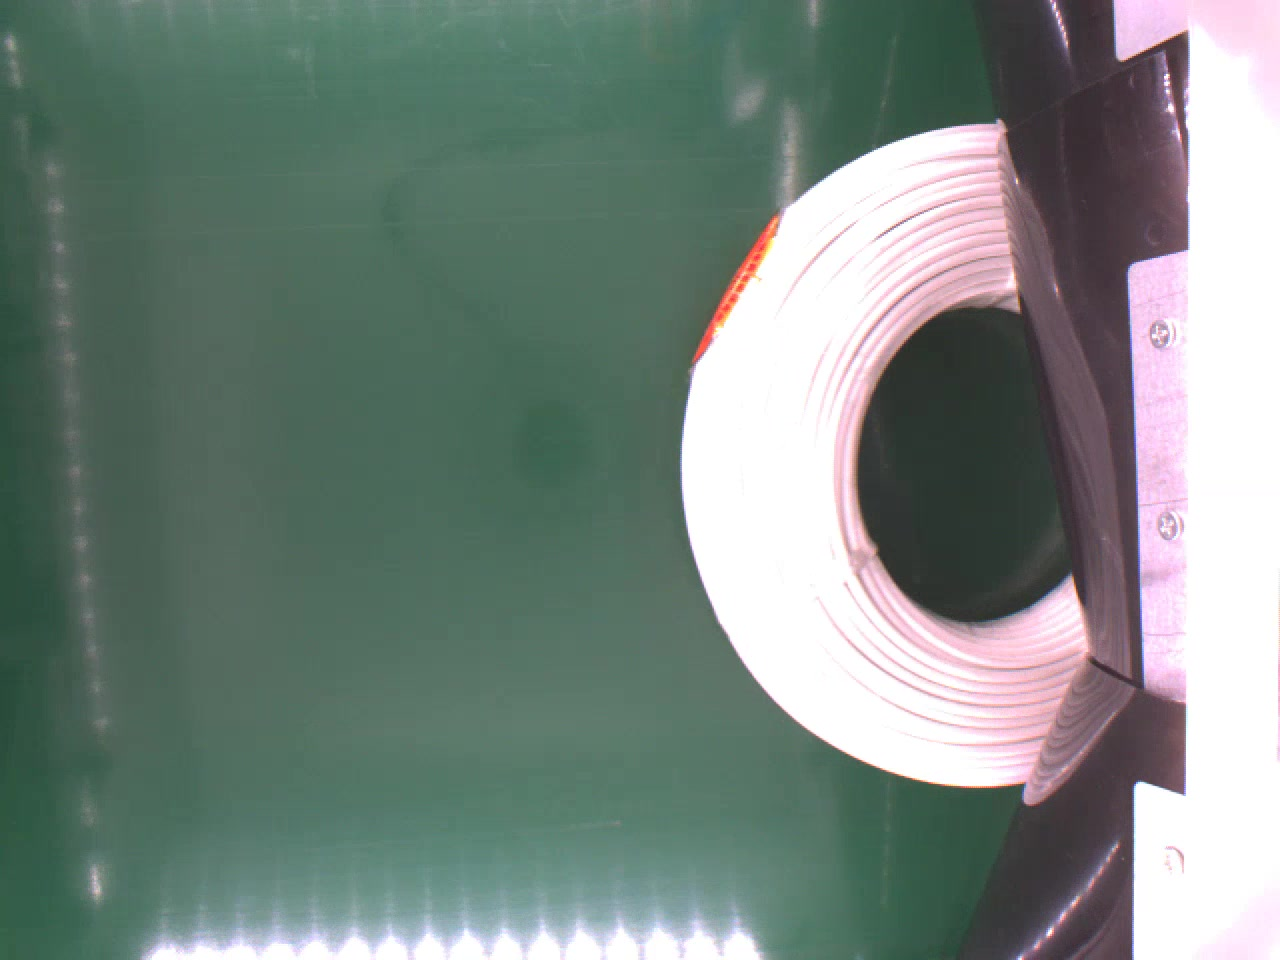white: (676, 119, 1091, 791)
